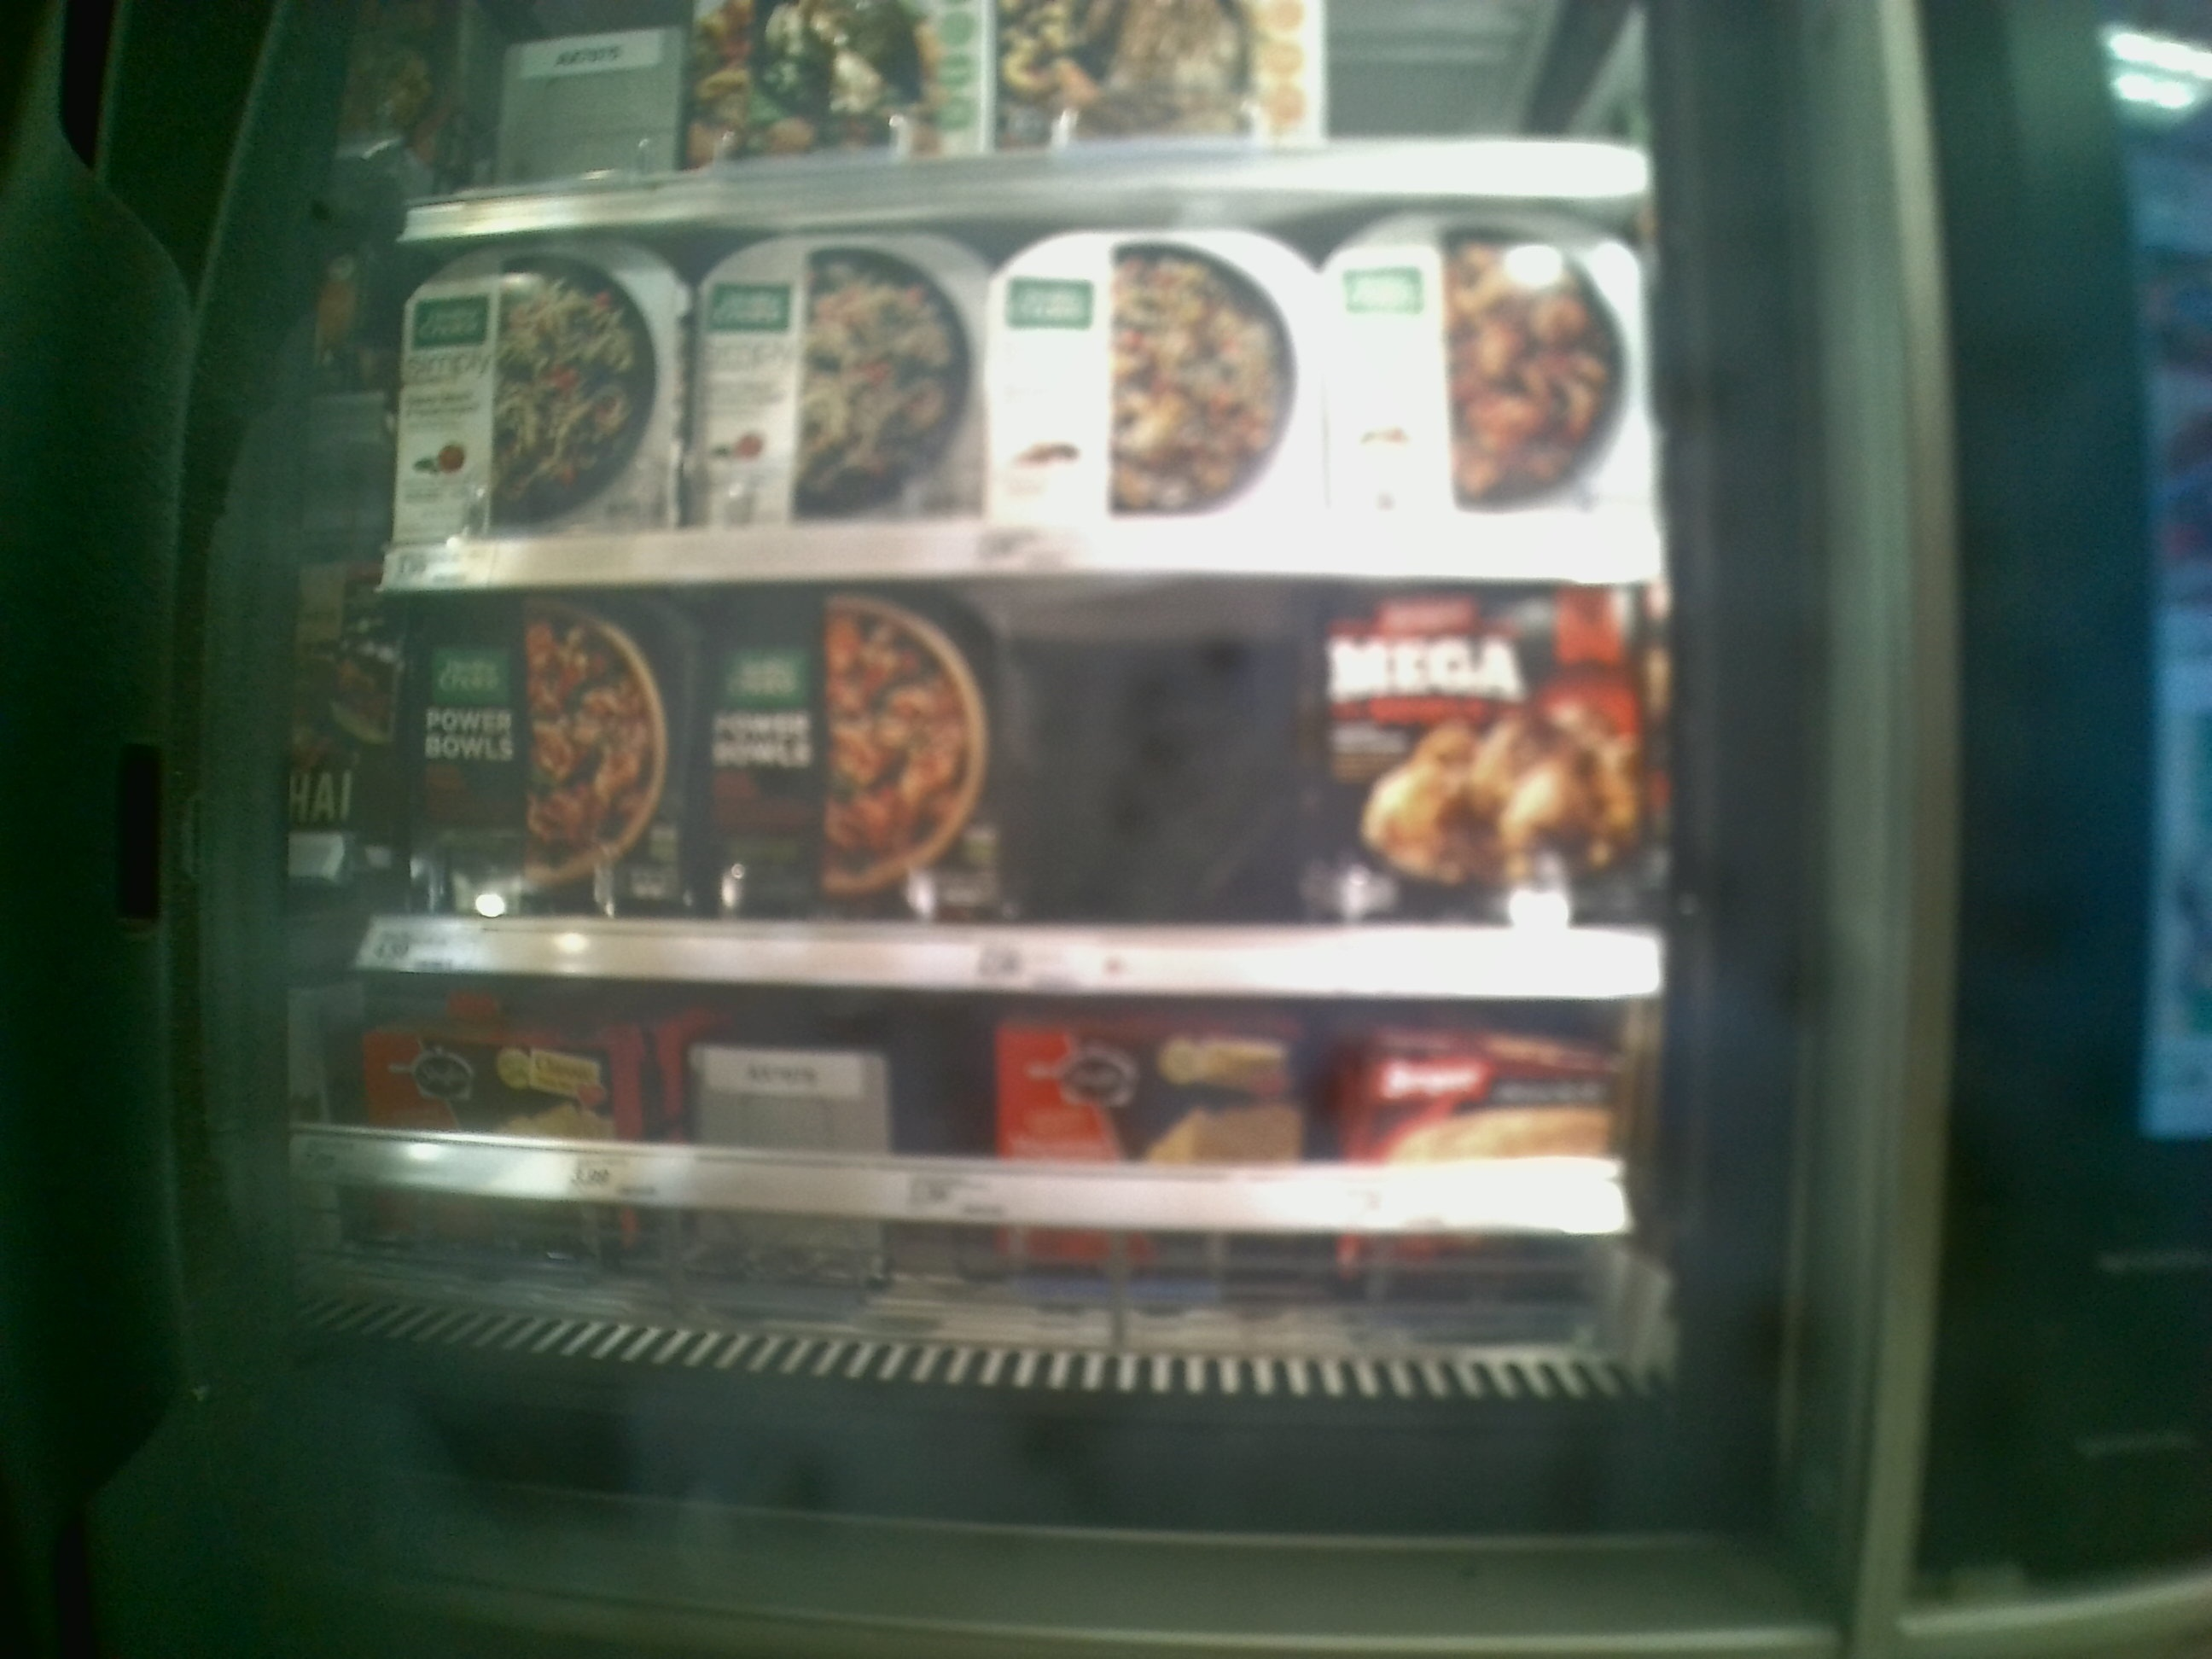shelf: (341, 969, 1674, 1396), (369, 586, 1669, 995), (374, 186, 1655, 575)
